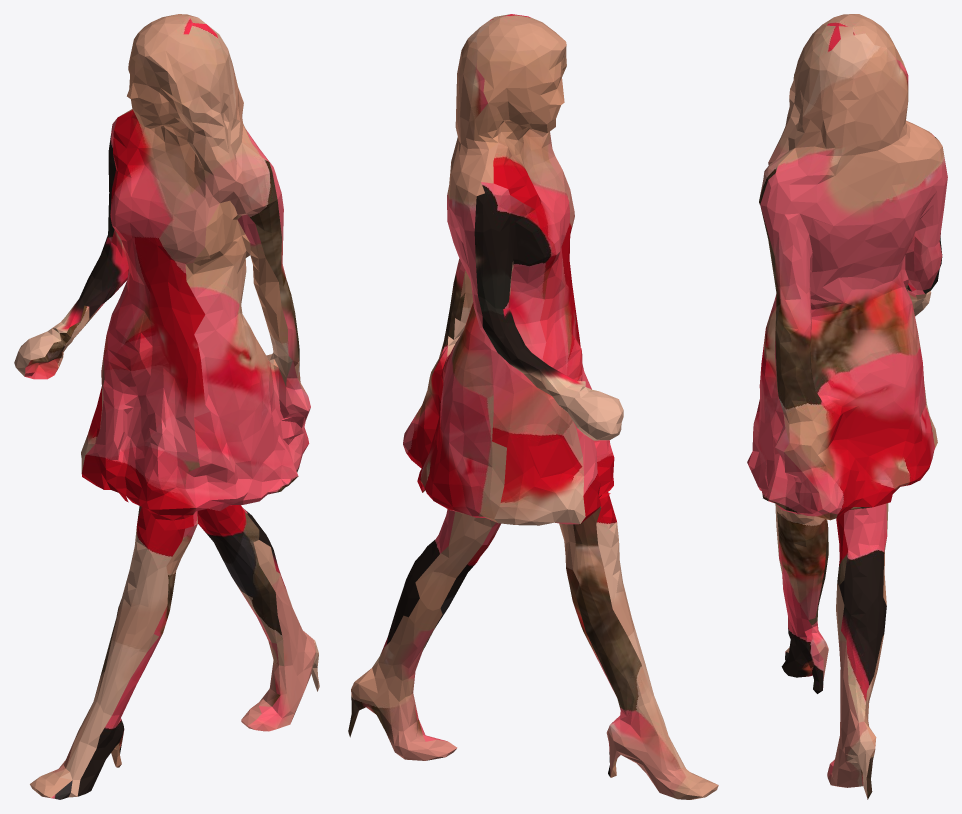
3 views of the same model, side by side, from view 1: azimuth 30°, elevation 25°; view 2: azimuth 150°, elevation 25°; view 3: azimuth 270°, elevation 25° (orthographic). The views are drawn at different scales.
Parts seen in each view (by area): view 1: w1; view 2: w1; view 3: w1.
Part boxes in pixels (bbox=[...]): w1: bbox=[14, 14, 319, 799]; w1: bbox=[348, 14, 718, 799]; w1: bbox=[747, 14, 947, 799].
Bounding box in the file's own units: 0.7753 × 1.7 × 0.4313.
Materials: 1 (1 with a texture image).
